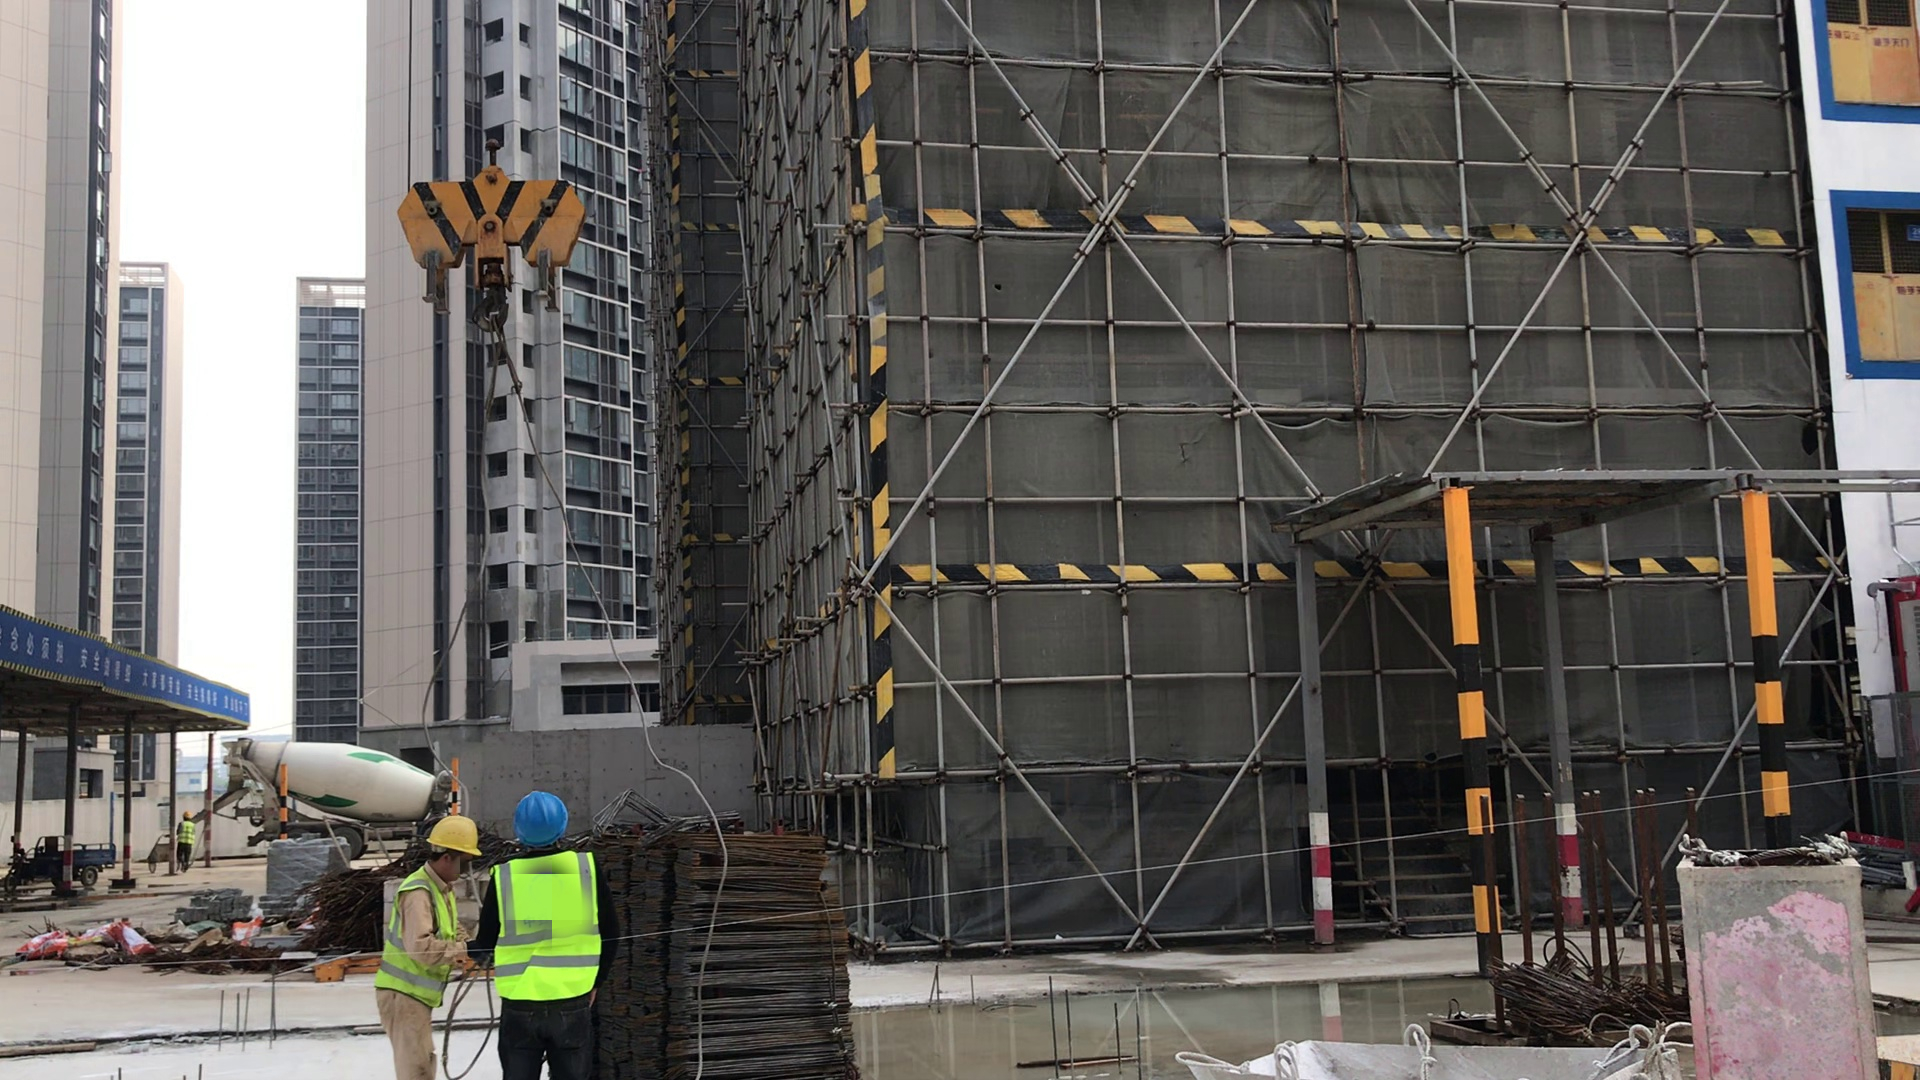handcart: (143, 838, 179, 872)
helmet: (511, 790, 576, 844), (424, 808, 482, 860), (181, 808, 195, 819)
hook: (397, 157, 607, 360)
person: (476, 790, 637, 1080), (359, 804, 502, 1080), (171, 809, 202, 873)
slogan: (1, 607, 255, 726)
vest: (490, 863, 595, 994), (369, 867, 455, 1007), (178, 822, 194, 844)
